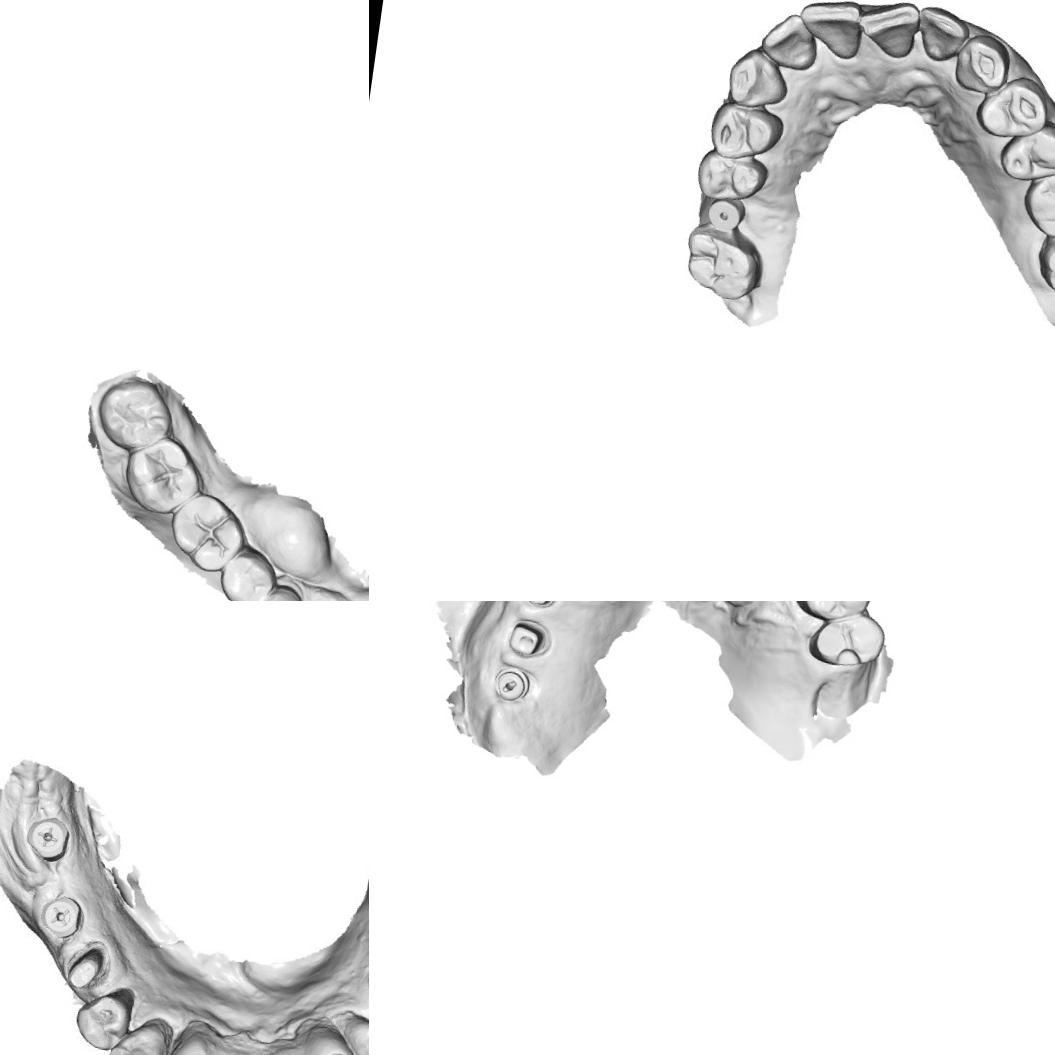abutment: (504, 618, 550, 662), (518, 601, 559, 611)
canine: (720, 43, 793, 111), (950, 28, 1016, 94), (102, 1014, 172, 1055), (330, 1012, 369, 1055)
crown: (57, 943, 108, 994)
implant: (702, 189, 748, 237)
implant_minus: (488, 664, 532, 705)
implant_plus: (25, 814, 70, 862), (40, 894, 83, 939)
incisor: (756, 10, 824, 78), (798, 0, 864, 70), (856, 0, 922, 64), (913, 5, 970, 62), (155, 1020, 221, 1055), (305, 1025, 367, 1055)
molar: (118, 430, 211, 522), (164, 487, 253, 577), (91, 373, 180, 458), (679, 225, 768, 307), (1015, 166, 1055, 243), (1032, 209, 1055, 302)
premolar: (806, 605, 888, 673), (703, 100, 787, 164), (976, 71, 1047, 146), (71, 981, 142, 1055), (694, 144, 776, 206), (994, 114, 1055, 186), (213, 541, 282, 601), (791, 601, 876, 626), (246, 580, 308, 601)
